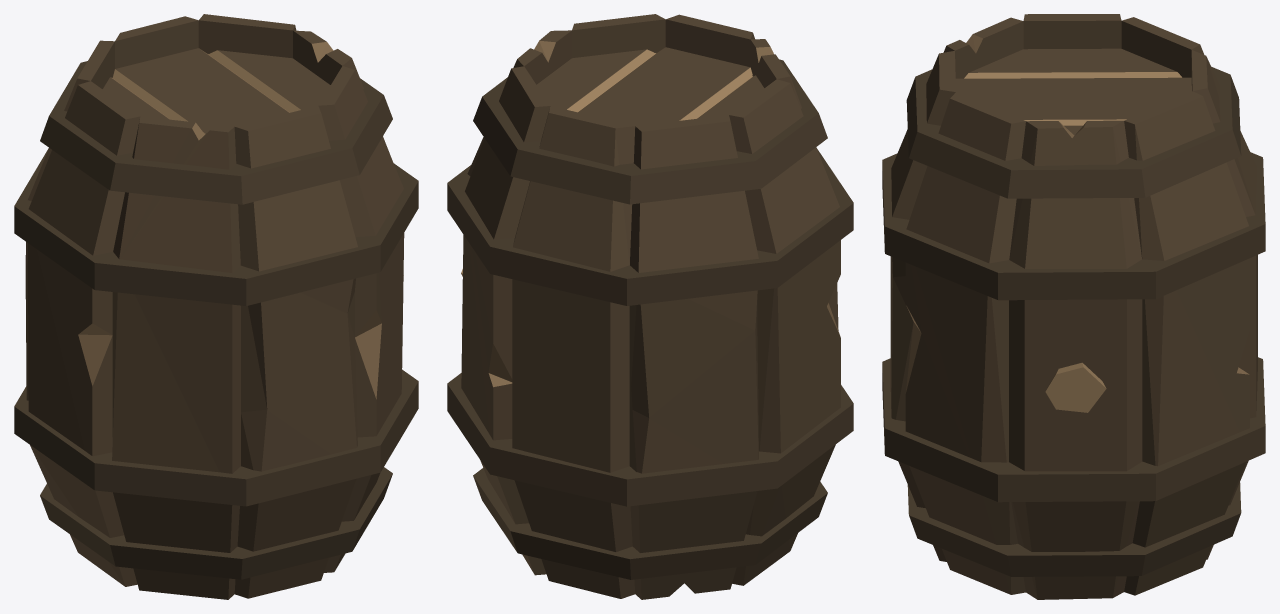
Rendered from SM_Prop_Barrel_01.fbx.
The picture shows the model from 3 angles, left to right: view 1: azimuth 30°, elevation 25°; view 2: azimuth 150°, elevation 25°; view 3: azimuth 270°, elevation 25°; orthographic projection.
Visible parts, largest first — view 1: SM_Prop_Barrel_01; view 2: SM_Prop_Barrel_01; view 3: SM_Prop_Barrel_01.
Boxes of the visible parts, <box> form: SM_Prop_Barrel_01: <box>14,14,418,599</box>; SM_Prop_Barrel_01: <box>447,14,853,599</box>; SM_Prop_Barrel_01: <box>882,14,1265,599</box>.
Size of the model in its own units: 0.00884 by 0.0117 by 0.00862.
1 material, 1 textured.
